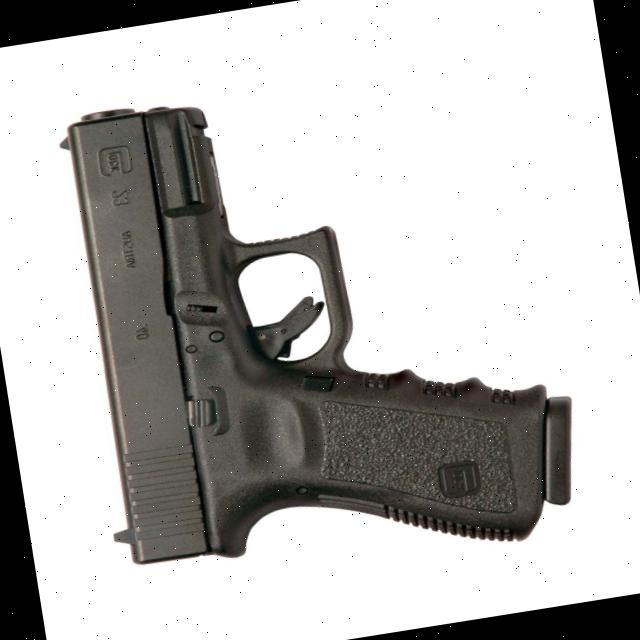Handgun: (50, 54, 592, 594)
